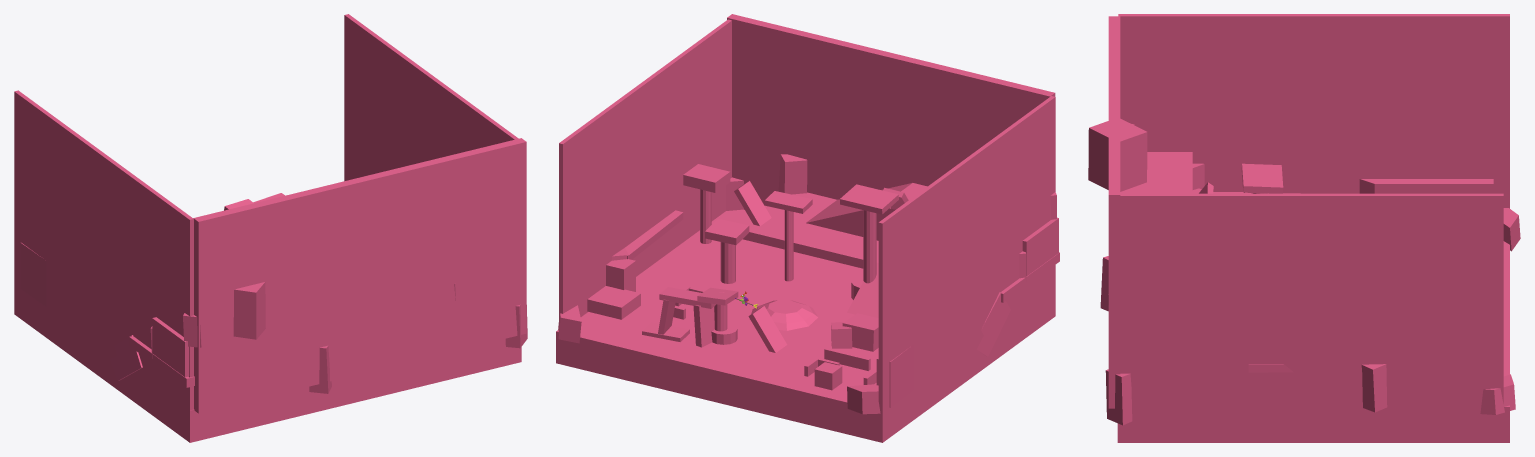
File: BruxasGarden-Blockout.fbx
3 views of the same model, side by side, from view 1: azimuth 30°, elevation 25°; view 2: azimuth 150°, elevation 25°; view 3: azimuth 270°, elevation 25° (orthographic). The views are drawn at different scales.
Parts seen in each view (by area): view 1: mesh_1492890681, mesh_268874549, mesh_505233329, mesh_720402110, mesh_2101293626, mesh_540717798, mesh_726315394, mesh_1193394646, mesh_1565787166, mesh_758457416; view 2: mesh_720402110, mesh_1492890681, mesh_268874549, mesh_505233329, mesh_1565787166, mesh_540717798, mesh_1193394646, group_1098197797, mesh_1312590884, mesh_726315394, group_1789525680, mesh_1461527764 (+20 smaller); view 3: mesh_505233329, mesh_268874549, mesh_720402110, mesh_1492890681, mesh_2101293626, mesh_540717798, mesh_726315394, mesh_1461527764, mesh_309284764, mesh_1316071823, mesh_1386978858, mesh_1343382867.
Boxes of the visible parts, x1=… form: mesh_1492890681: x1=193, y1=138, x2=526, y2=413; mesh_268874549: x1=14, y1=90, x2=193, y2=412; mesh_505233329: x1=344, y1=14, x2=518, y2=181; mesh_720402110: x1=14, y1=282, x2=521, y2=442; mesh_2101293626: x1=233, y1=282, x2=265, y2=339; mesh_540717798: x1=152, y1=317, x2=189, y2=377; mesh_726315394: x1=20, y1=242, x2=46, y2=306; mesh_1193394646: x1=110, y1=335, x2=142, y2=380; mesh_1565787166: x1=129, y1=336, x2=194, y2=387; mesh_758457416: x1=309, y1=345, x2=331, y2=393; mesh_720402110: x1=556, y1=209, x2=1055, y2=442; mesh_1492890681: x1=727, y1=14, x2=1055, y2=209; mesh_268874549: x1=878, y1=96, x2=1055, y2=412; mesh_505233329: x1=559, y1=19, x2=731, y2=324; mesh_1565787166: x1=741, y1=192, x2=1059, y2=302; mesh_540717798: x1=806, y1=183, x2=1058, y2=276; mesh_1193394646: x1=847, y1=262, x2=1010, y2=356; group_1098197797: x1=705, y1=218, x2=749, y2=283; mesh_1312590884: x1=587, y1=286, x2=640, y2=319; mesh_726315394: x1=876, y1=344, x2=914, y2=407; group_1789525680: x1=749, y1=300, x2=818, y2=330; mesh_1461527764: x1=839, y1=184, x2=898, y2=214; mesh_505233329: x1=1120, y1=193, x2=1503, y2=408; mesh_268874549: x1=1118, y1=14, x2=1509, y2=208; mesh_720402110: x1=1117, y1=241, x2=1509, y2=442; mesh_1492890681: x1=1108, y1=16, x2=1120, y2=408; mesh_2101293626: x1=1088, y1=118, x2=1147, y2=191; mesh_540717798: x1=1120, y1=152, x2=1192, y2=193; mesh_726315394: x1=1359, y1=179, x2=1493, y2=193; mesh_1461527764: x1=1241, y1=163, x2=1283, y2=193; mesh_309284764: x1=1361, y1=364, x2=1387, y2=412; mesh_1316071823: x1=1105, y1=369, x2=1132, y2=425; mesh_1386978858: x1=1480, y1=374, x2=1515, y2=414; mesh_1343382867: x1=1503, y1=208, x2=1520, y2=251.
Size of the model in its own units: 995 by 614 by 968.
